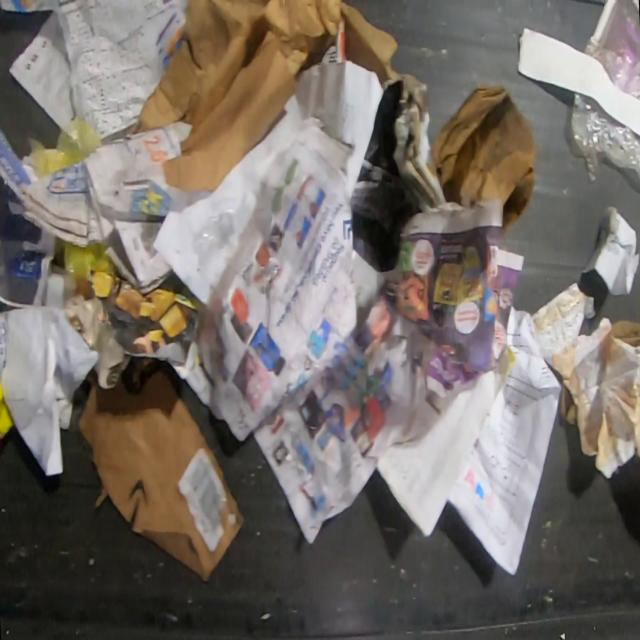cardboard: (133, 0, 396, 193), (79, 368, 244, 580), (428, 86, 536, 230)
soft_plastic: (568, 93, 640, 176), (582, 0, 640, 99), (22, 118, 98, 183), (64, 241, 116, 299)
